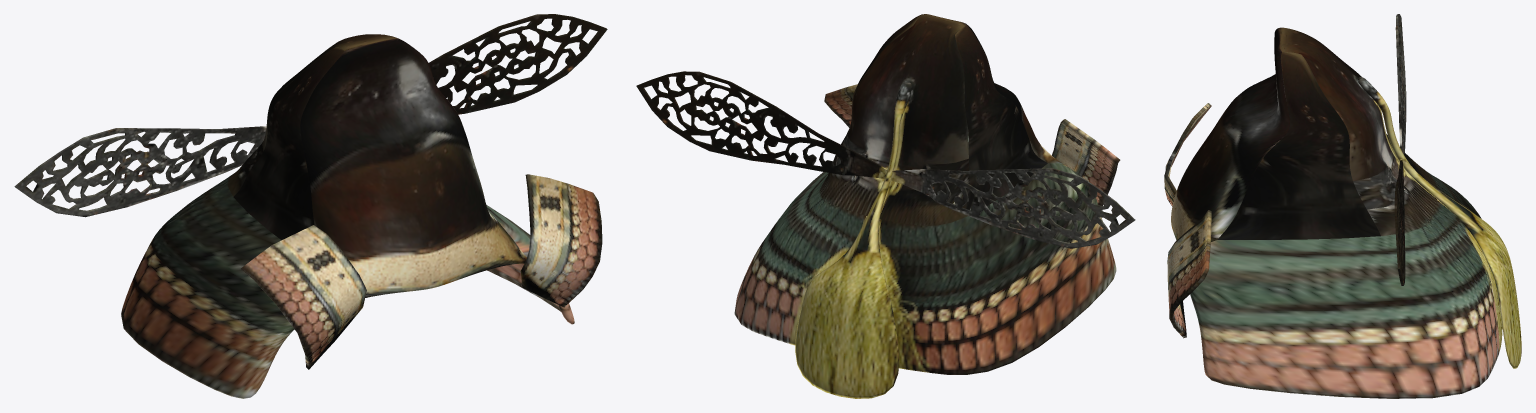
File: armor_head.fbx
3 views of the same model, side by side, from view 1: azimuth 30°, elevation 25°; view 2: azimuth 150°, elevation 25°; view 3: azimuth 270°, elevation 25° (orthographic). The views are drawn at different scales.
Visible parts, largest first — view 1: kabuto_kazari2; view 2: kabuto_kazari2; view 3: kabuto_kazari2.
Part boxes in pixels (x1,y1,x2,y2): kabuto_kazari2: (14, 14, 607, 398); kabuto_kazari2: (636, 14, 1135, 398); kabuto_kazari2: (1164, 14, 1521, 398).
Size of the model in its own units: 86.55 by 49.11 by 49.36.
Materials: 2 (2 with a texture image).
